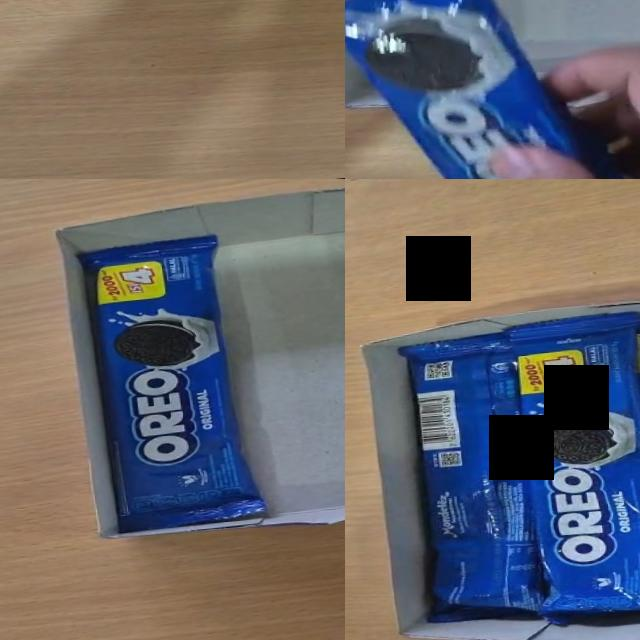Oreo: (75, 232, 267, 534), (345, 0, 608, 179), (505, 313, 640, 619), (401, 333, 540, 619)
